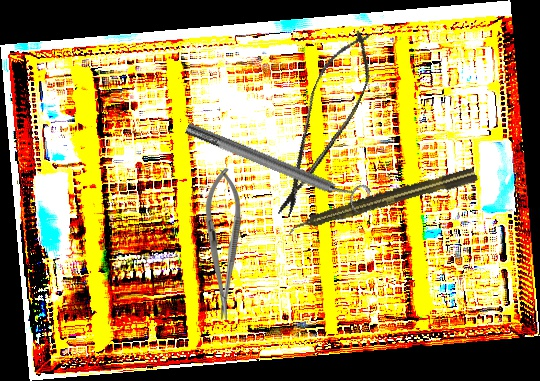Fixation Ring: (181, 112, 373, 217)
Handpiece: (284, 165, 480, 237)
Micro Scissor: (263, 22, 386, 226)
Needle Holder: (205, 167, 241, 321)
